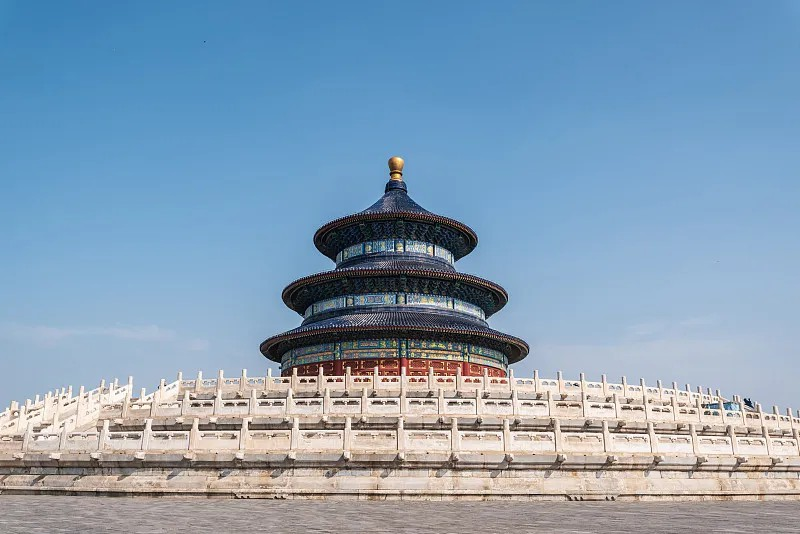Heaven: (259, 156, 529, 376)
